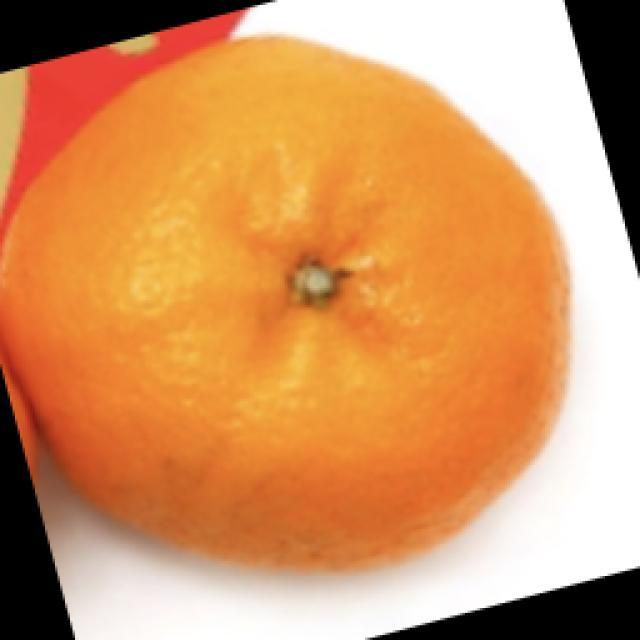matang: (0, 38, 567, 567)
